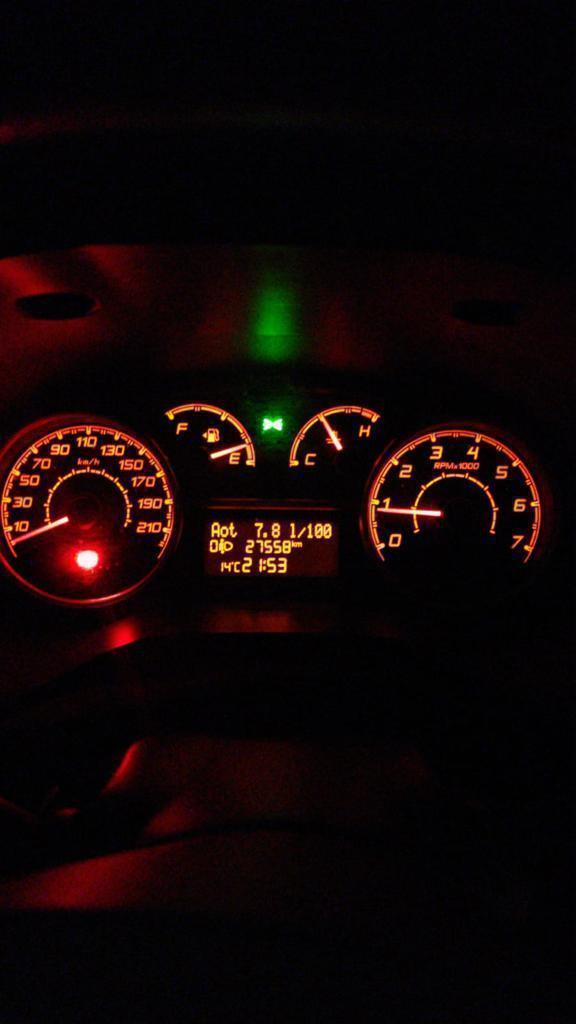,: (263, 531, 267, 537)
0: (323, 522, 332, 539), (314, 522, 323, 539), (208, 539, 218, 553)
1: (306, 522, 313, 538), (258, 558, 262, 573), (220, 561, 223, 572)
2: (241, 556, 252, 573), (244, 539, 254, 553)
3: (277, 557, 287, 573)
4: (223, 561, 230, 572)
5: (266, 556, 276, 573), (272, 539, 281, 554), (263, 539, 272, 553)
7: (253, 521, 262, 537), (255, 539, 263, 553)
8: (271, 522, 280, 538), (282, 539, 291, 554)
X: (228, 521, 237, 538), (288, 522, 296, 538), (211, 521, 219, 537), (297, 525, 306, 538), (219, 525, 228, 537), (233, 561, 240, 573), (262, 559, 266, 570), (295, 541, 302, 547), (291, 539, 295, 547)
odometer: (199, 516, 341, 580)
